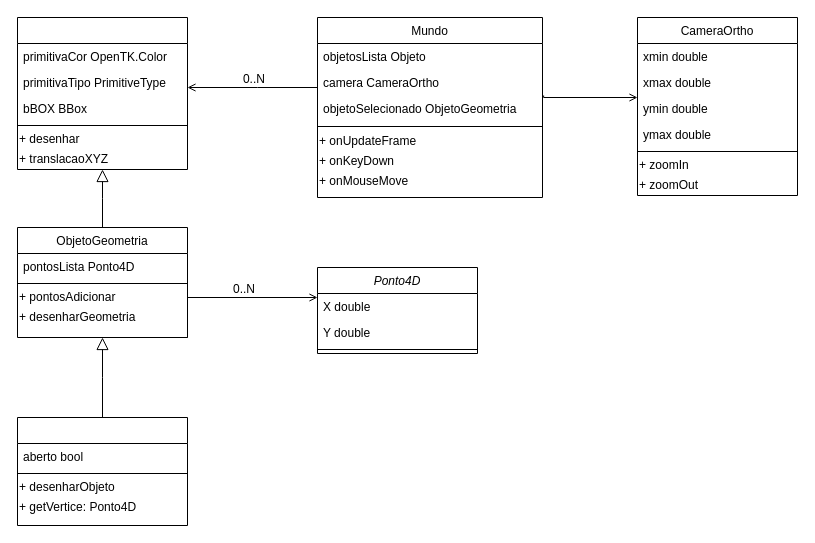
The diagram is 815 pixels wide and 543 high, and some of its shapes have lost their labels. The shapes that lost their labels are listed below. From the top down, each one's box as (x1, y1, x2, y2) in pixels, then its label:
(16, 16, 188, 170): Objeto
(16, 416, 188, 526): Poligono
